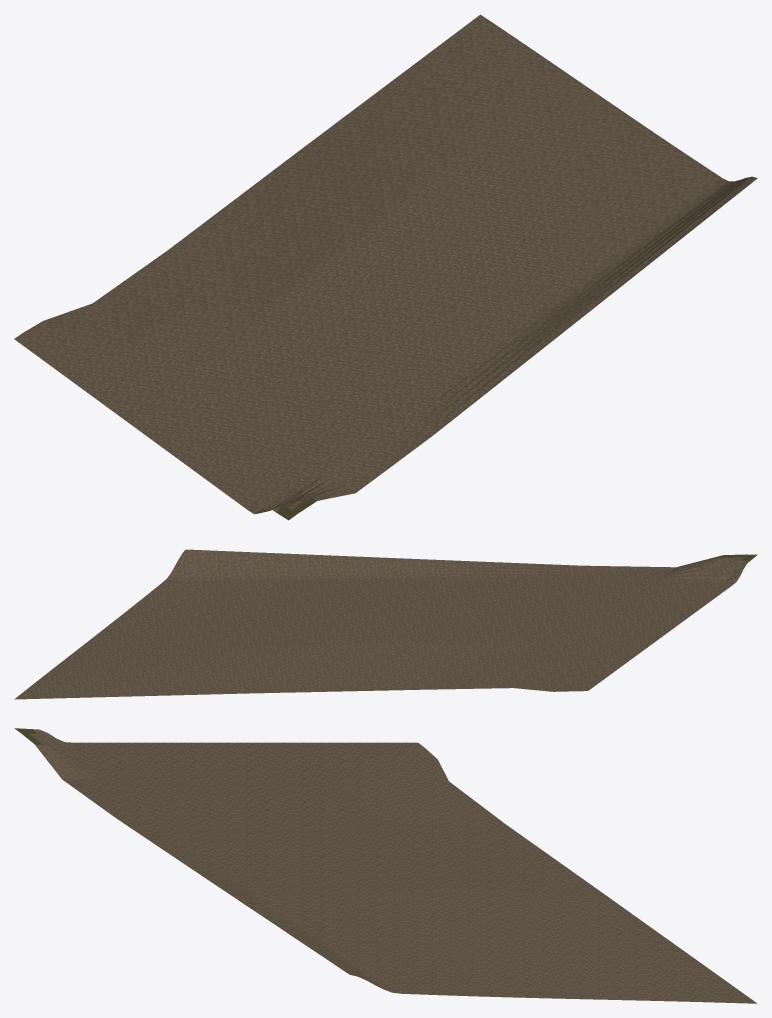
File: level_camp_siteart_east_shore.glb
3 views of the same model, one above another, from view 1: azimuth 30°, elevation 25°; view 2: azimuth 150°, elevation 25°; view 3: azimuth 270°, elevation 25° (orthographic). The views are drawn at different scales.
Visible parts, largest first — view 1: Continuous east forest lakeshore return; view 2: Continuous east forest lakeshore return; view 3: Continuous east forest lakeshore return.
Boxes of the visible parts, x1=… form: Continuous east forest lakeshore return: x1=14, y1=14, x2=757, y2=520; Continuous east forest lakeshore return: x1=14, y1=549, x2=757, y2=699; Continuous east forest lakeshore return: x1=14, y1=728, x2=757, y2=1003.
Size of the model in its own units: 63.95 by 3.46 by 80.3.
2 materials, 2 textured.
